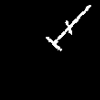double_crochet: (46, 5, 90, 50)
